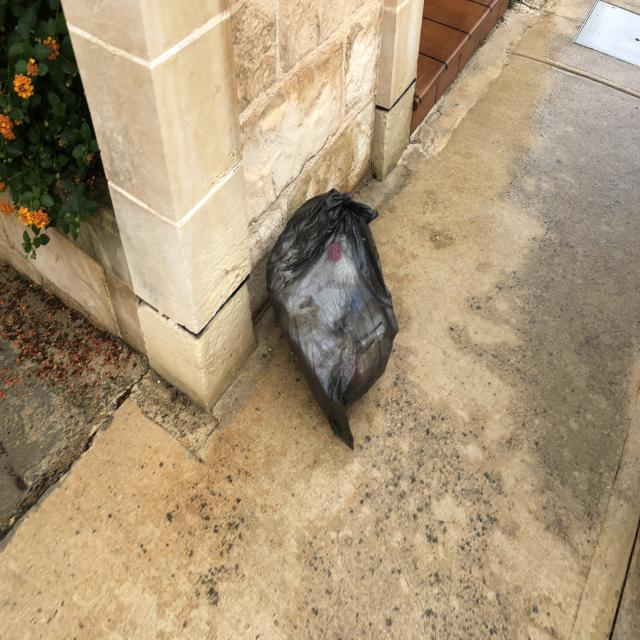Mixed Waste -Black Bag-: (269, 191, 399, 450)
